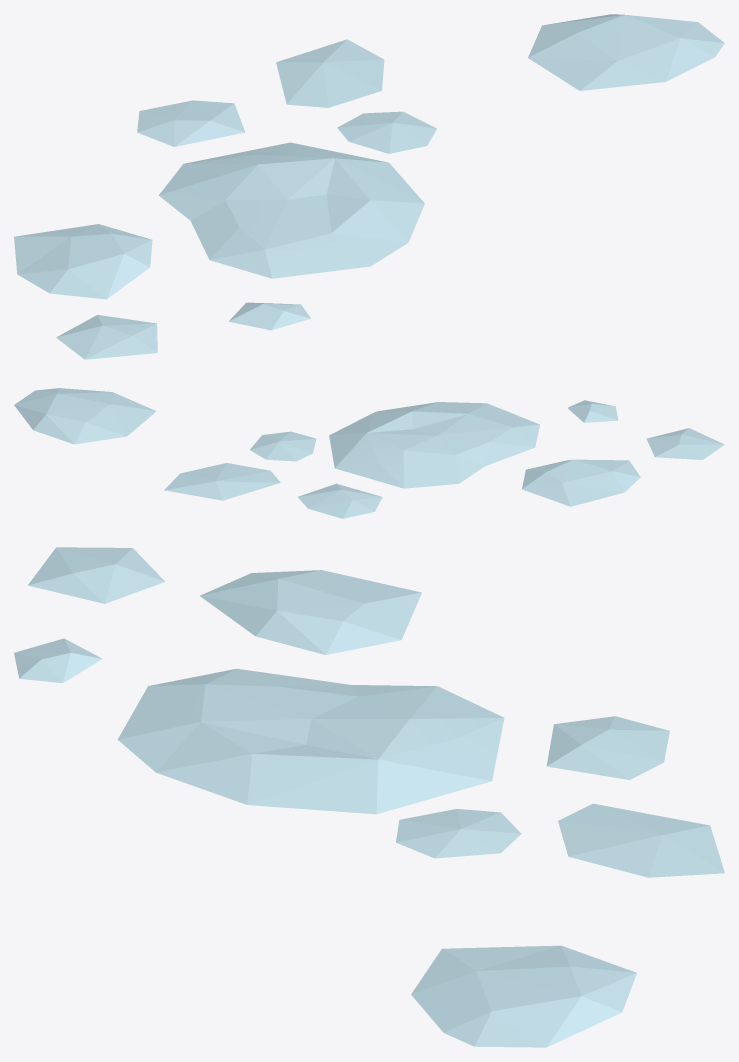
The model's file is worlds_SM_Env_Snow_Pile_02.gltf.
The picture shows the model from 3 angles, top to bottom: view 1: azimuth 30°, elevation 25°; view 2: azimuth 150°, elevation 25°; view 3: azimuth 270°, elevation 25°; orthographic projection. The views are drawn at different scales.
Visible parts, largest first — view 1: SM_Env_Snow_Pile_02; view 2: SM_Env_Snow_Pile_02; view 3: SM_Env_Snow_Pile_02.
Part boxes in pixels (left/top/right/bottom): SM_Env_Snow_Pile_02: left=14, top=14, right=724, bottom=359; SM_Env_Snow_Pile_02: left=14, top=388, right=724, bottom=518; SM_Env_Snow_Pile_02: left=14, top=547, right=724, bottom=1047.
Size of the model in its own units: 6.38 by 0.173 by 3.83.
1 material, 1 textured.
